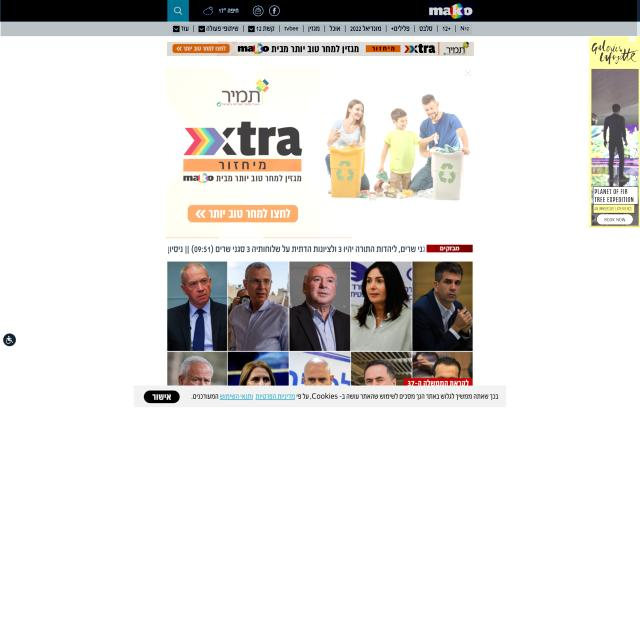CheckBox: (167, 0, 189, 21)
ImageView: (165, 65, 475, 237), (588, 36, 640, 226), (167, 42, 474, 56)
QR code: (201, 5, 241, 16)
bag: (1, 0, 637, 36)
copy: (166, 261, 472, 385)
date picker: (428, 2, 475, 21)
decoration: (172, 24, 472, 35)
header: (133, 385, 506, 408)
